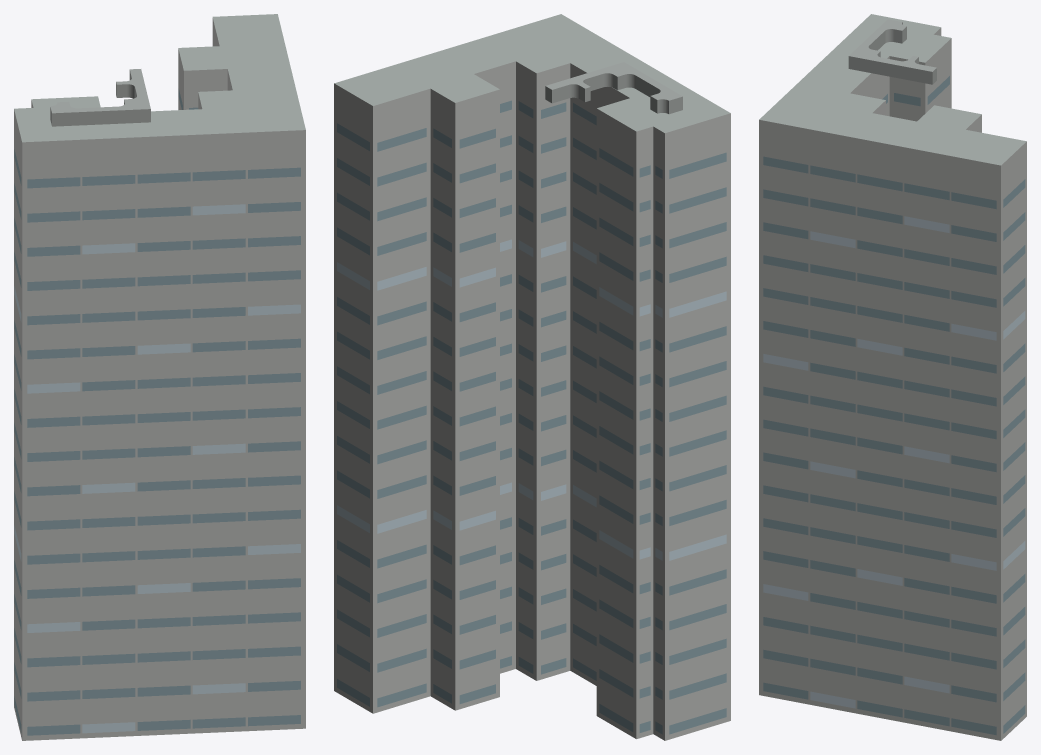
The model's file is fallback-seocho-grand-xi-104.glb.
3 renders of one model, left to right at view 1: azimuth 30°, elevation 25°; view 2: azimuth 150°, elevation 25°; view 3: azimuth 270°, elevation 25°, orthographic. The views are drawn at different scales.
Visible parts, largest first — view 1: fallback-seocho-grand-xi-104; view 2: fallback-seocho-grand-xi-104; view 3: fallback-seocho-grand-xi-104.
Part boxes in pixels (x1,y1,x2,y2): fallback-seocho-grand-xi-104: (14,14,305,740); fallback-seocho-grand-xi-104: (334,14,730,740); fallback-seocho-grand-xi-104: (759,14,1026,740).
Bounding box in the file's own units: 60.8 × 110 × 45.41.
